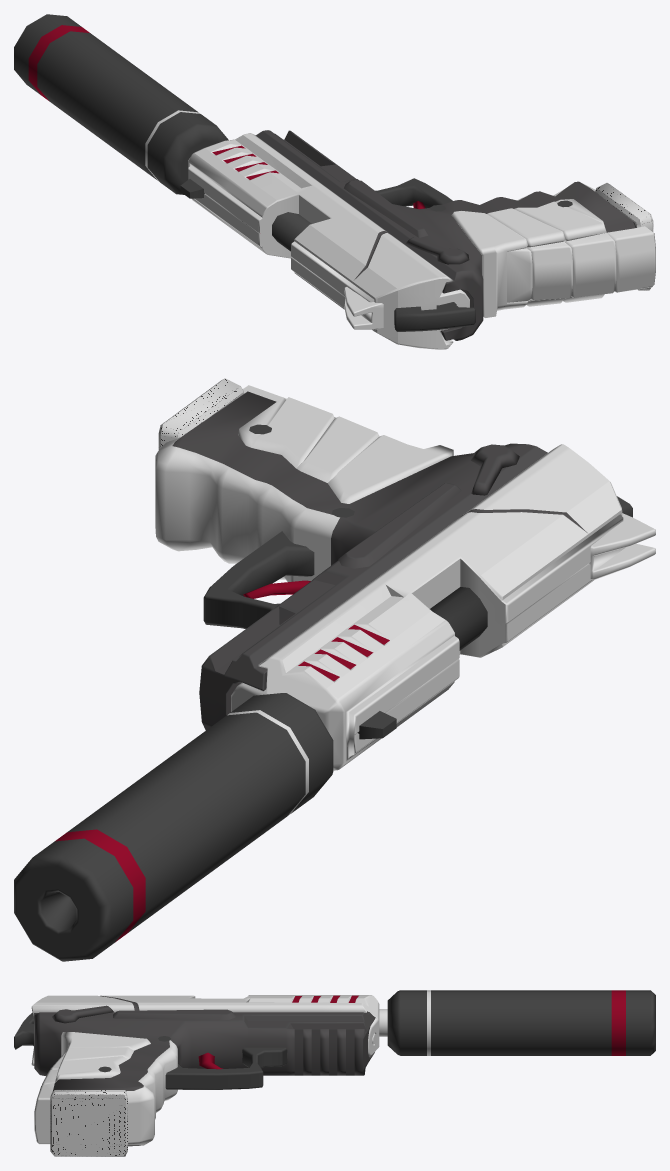
File: kayoko.glb
3 views of the same model, one above another, from view 1: azimuth 30°, elevation 25°; view 2: azimuth 150°, elevation 25°; view 3: azimuth 270°, elevation 25° (orthographic). The views are drawn at different scales.
Parts seen in each view (by area): view 1: Kayoko_Original_Weapon; view 2: Kayoko_Original_Weapon; view 3: Kayoko_Original_Weapon.
Part boxes in pixels (x1,y1,x2,y2): Kayoko_Original_Weapon: [14, 14, 655, 349]; Kayoko_Original_Weapon: [14, 378, 655, 961]; Kayoko_Original_Weapon: [14, 990, 655, 1156].
Bounding box in the file's own units: 0.1237 × 0.032 × 0.2776.
1 material, 1 textured.
